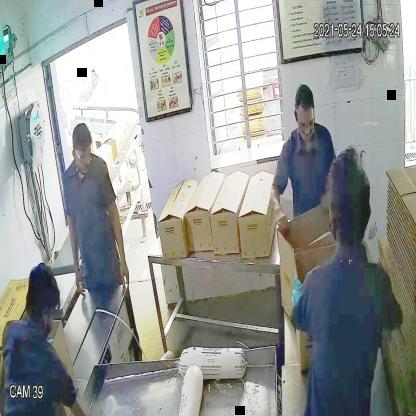goggles: (294, 108, 317, 132), (70, 144, 93, 167)
